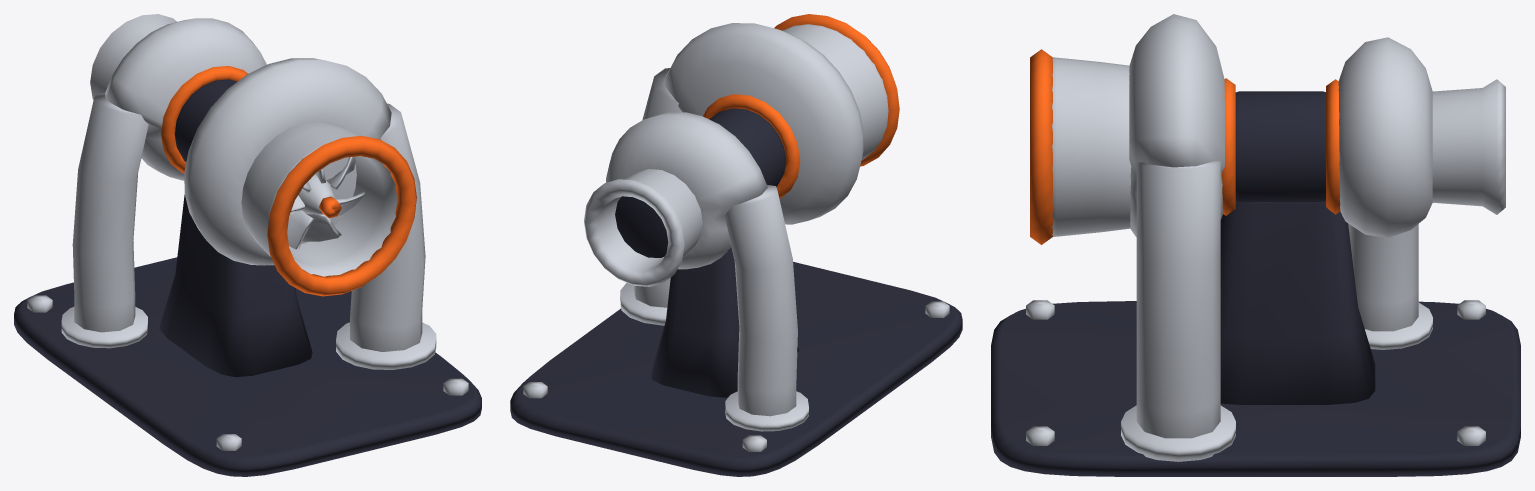
Rendered from turbo_hood.glb.
The picture shows the model from 3 angles, left to right: view 1: azimuth 30°, elevation 25°; view 2: azimuth 150°, elevation 25°; view 3: azimuth 270°, elevation 25°; orthographic projection. The views are drawn at different scales.
Parts seen in each view (by area): view 1: MountPlate, CompressorHousing, Pedestal, Downpipe_Turbine, IntakeTrumpet, TurbineHousing, IntakeLip, Downpipe_Compressor, ExhaustOutlet, Flange_Compressor, Clamp_Rear, Flange_Turbine (+4 smaller); view 2: MountPlate, CompressorHousing, Downpipe_Turbine, TurbineHousing, Pedestal, ExhaustOutlet, IntakeTrumpet, CenterHousing, IntakeLip, ExhaustCore, Clamp_Front, Downpipe_Compressor (+2 smaller); view 3: MountPlate, Pedestal, Downpipe_Compressor, TurbineHousing, CompressorHousing, IntakeTrumpet, CenterHousing, ExhaustOutlet, Downpipe_Turbine, IntakeLip, Flange_Compressor, Clamp_Rear (+2 smaller).
Part boxes in pixels (x1,y1,x2,y2): MountPlate: (14,257,481,476); CompressorHousing: (184,58,391,265); Pedestal: (159,194,312,377); Downpipe_Turbine: (72,93,148,332); IntakeTrumpet: (241,121,397,276); TurbineHousing: (105,18,266,180); IntakeLip: (267,135,416,296); Downpipe_Compressor: (350,103,425,351); ExhaustOutlet: (90,14,176,99); Flange_Compressor: (336,322,436,369); Clamp_Rear: (161,66,247,173); Flange_Turbine: (61,307,147,348); MountPlate: (510,261,962,476); CompressorHousing: (663,23,863,224); Downpipe_Turbine: (724,184,797,416); TurbineHousing: (606,112,767,269); Pedestal: (650,247,798,397); ExhaustOutlet: (584,169,702,286); IntakeTrumpet: (782,24,888,159); CenterHousing: (709,108,785,186); IntakeLip: (774,14,899,166); ExhaustCore: (615,196,668,257); Clamp_Front: (703,94,800,198); Downpipe_Compressor: (633,68,682,307); MountPlate: (991,301,1520,476); Pedestal: (1220,201,1375,404); Downpipe_Compressor: (1136,160,1220,438); TurbineHousing: (1338,37,1432,237); CompressorHousing: (1129,14,1224,236); IntakeTrumpet: (1052,57,1131,236); CenterHousing: (1235,91,1325,201); ExhaustOutlet: (1432,79,1505,214); Downpipe_Turbine: (1348,223,1418,331); IntakeLip: (1030,49,1052,244); Flange_Compressor: (1121,405,1235,461); Clamp_Rear: (1326,79,1340,214).
Size of the model in its own units: 0.3458 by 0.3737 by 0.4793.
